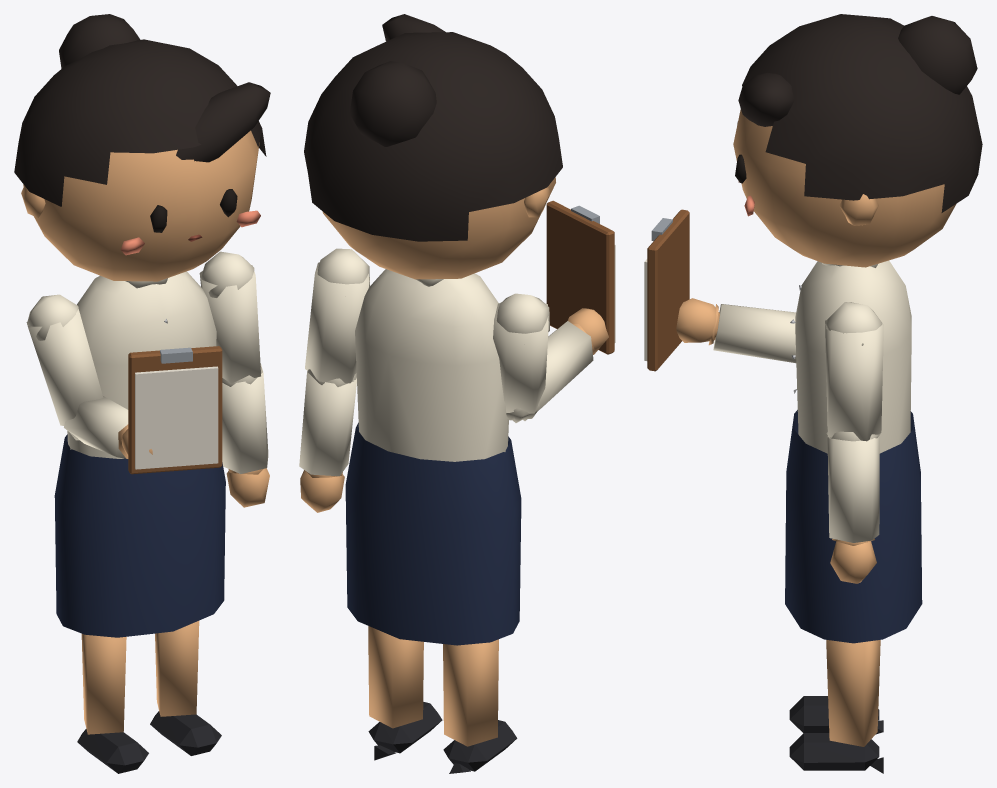
Rendered from era3_office_woman.glb.
The picture shows the model from 3 angles, left to right: view 1: azimuth 30°, elevation 25°; view 2: azimuth 150°, elevation 25°; view 3: azimuth 270°, elevation 25°; orthographic projection. The views are drawn at different scales.
Visible parts, largest first — view 1: head, body, prop_clipboard, shin_R, arm_R, arm_L, shin_L, forearm_L, forearm_R; view 2: body, head, prop_clipboard, shin_R, shin_L, arm_L, forearm_L, arm_R, forearm_R; view 3: head, body, shin_L, arm_L, forearm_L, prop_clipboard, forearm_R, shin_R.
Part boxes in pixels (bbox=[...]): head: bbox=[14, 14, 270, 281]; body: bbox=[54, 271, 225, 637]; prop_clipboard: bbox=[128, 346, 222, 474]; shin_R: bbox=[77, 634, 148, 773]; arm_R: bbox=[26, 294, 103, 425]; arm_L: bbox=[199, 251, 262, 386]; shin_L: bbox=[150, 621, 221, 755]; forearm_L: bbox=[222, 363, 269, 507]; forearm_R: bbox=[64, 396, 152, 458]; body: bbox=[345, 269, 521, 645]; head: bbox=[304, 14, 562, 279]; prop_clipboard: bbox=[546, 200, 615, 354]; shin_R: bbox=[443, 639, 517, 773]; shin_L: bbox=[368, 626, 442, 760]; arm_L: bbox=[305, 248, 369, 386]; forearm_L: bbox=[299, 372, 356, 512]; arm_R: bbox=[493, 293, 549, 422]; forearm_R: bbox=[506, 308, 608, 420]; head: bbox=[733, 14, 982, 267]; body: bbox=[785, 260, 922, 643]; shin_L: bbox=[789, 640, 883, 773]; arm_L: bbox=[825, 302, 883, 441]; forearm_L: bbox=[827, 429, 879, 583]; prop_clipboard: bbox=[644, 209, 689, 371]; forearm_R: bbox=[676, 298, 796, 363]; shin_R: bbox=[789, 696, 883, 734].
Size of the model in its own units: 0.5313 by 1.48 by 0.6195.
